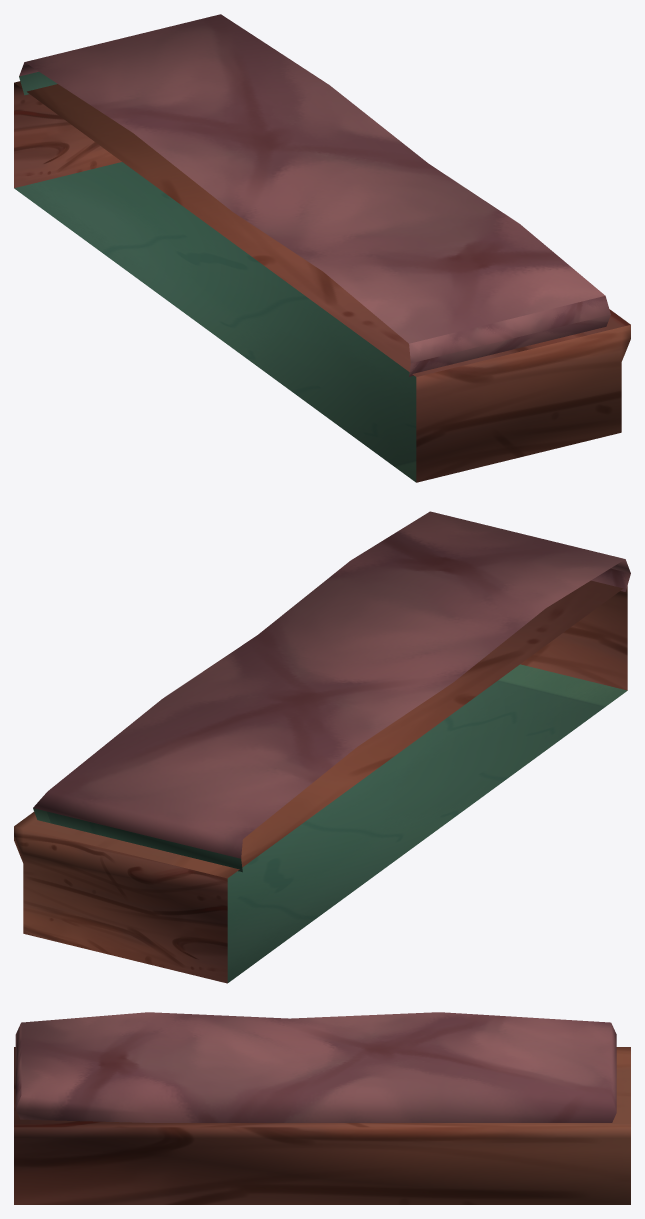
Rendered from Sofa.fbx.
3 renders of one model, top to bottom at view 1: azimuth 30°, elevation 25°; view 2: azimuth 150°, elevation 25°; view 3: azimuth 270°, elevation 25°, orthographic. The views are drawn at different scales.
Visible parts, largest first — view 1: Sofa; view 2: Sofa; view 3: Sofa.
Boxes of the visible parts, x1,y1,x2,y2 form: Sofa: (14,14,630,482); Sofa: (14,511,630,983); Sofa: (14,1012,630,1204).
Size of the model in its own units: 147 by 465 by 94.6.
